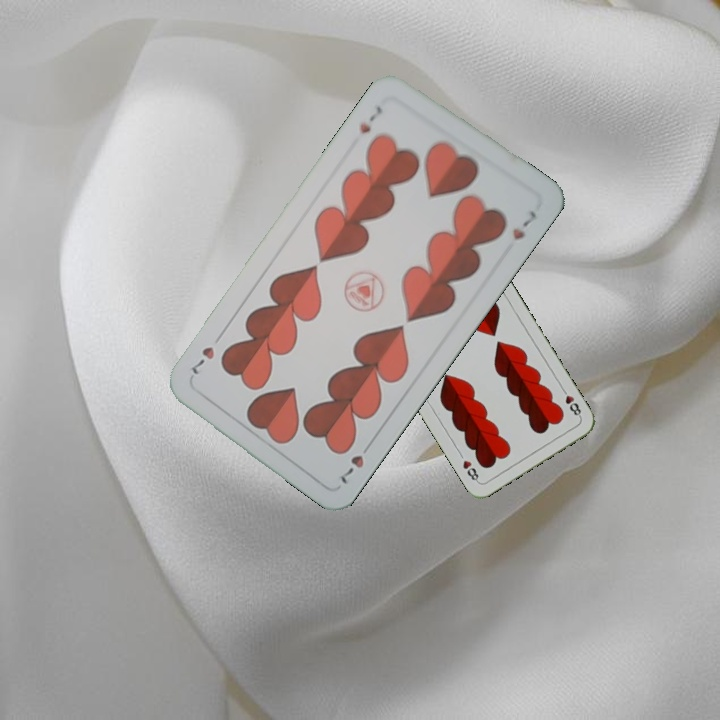H7: (336, 437, 376, 487), (355, 101, 386, 137)
H8: (557, 384, 584, 420)
